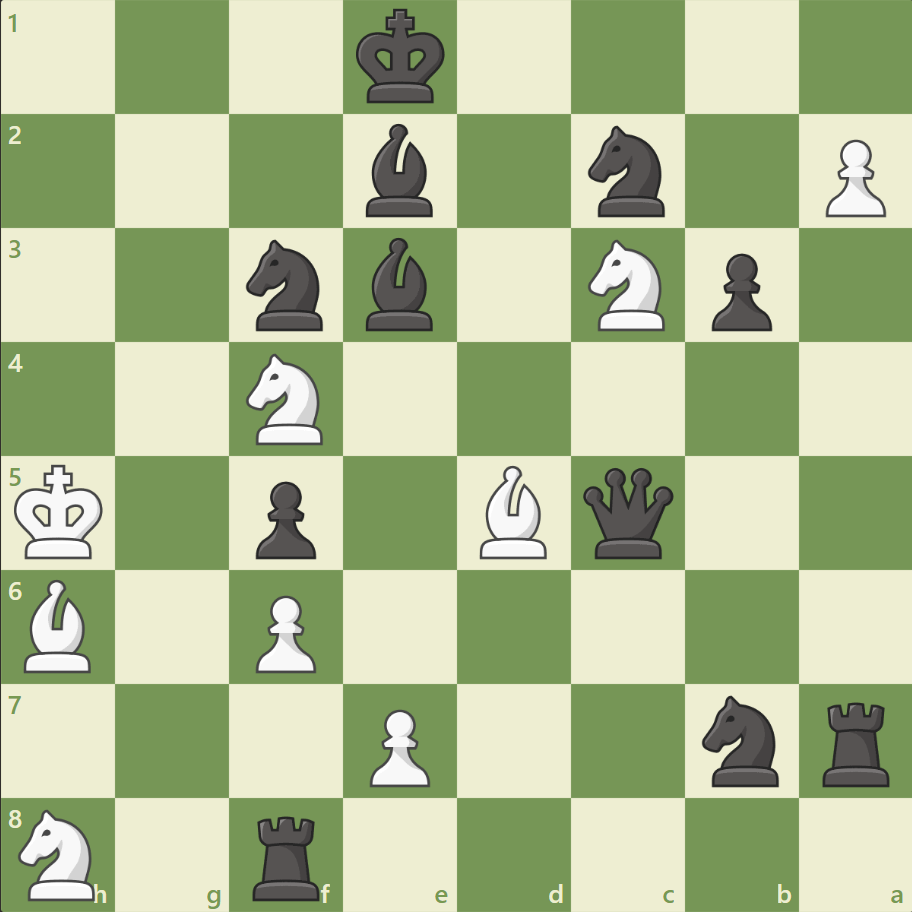B: (471, 460, 555, 563), (17, 574, 101, 676)
K: (11, 458, 111, 566)
N: (579, 234, 676, 337), (11, 802, 108, 904), (238, 348, 335, 450)
P: (247, 586, 322, 677), (361, 700, 435, 791), (815, 132, 889, 223)
b: (358, 233, 442, 336), (358, 120, 442, 222)
k: (351, 4, 451, 112)
n: (692, 688, 789, 791), (238, 234, 335, 337), (579, 121, 676, 223)
p: (247, 473, 322, 564), (701, 246, 776, 337)
q: (578, 463, 677, 562)
r: (246, 806, 329, 904), (814, 693, 897, 790)
